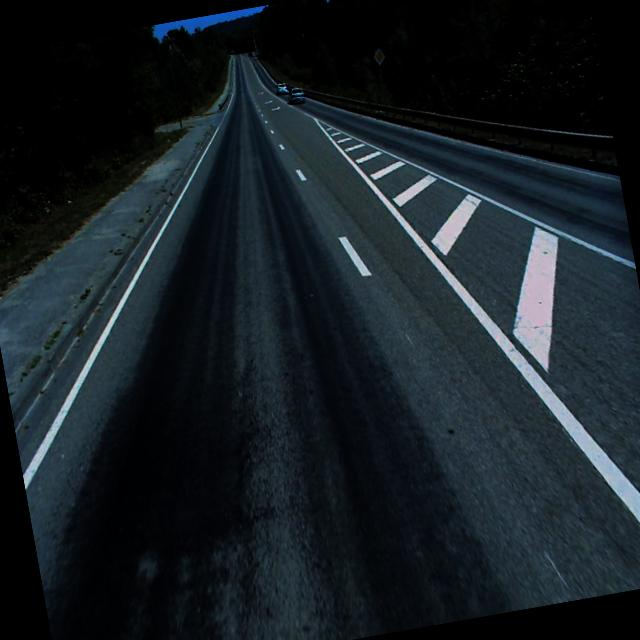road: (14, 52, 640, 640)
